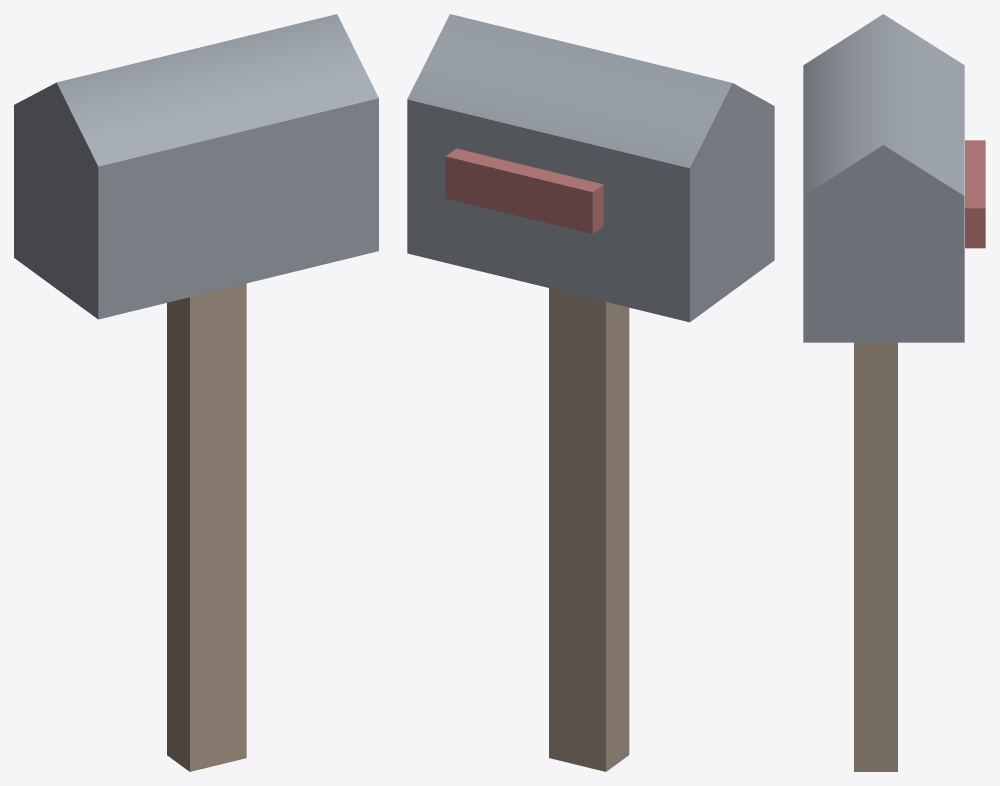
The model's file is mailBox_grey02.fbx.
3 renders of one model, left to right at view 1: azimuth 30°, elevation 25°; view 2: azimuth 150°, elevation 25°; view 3: azimuth 270°, elevation 25°, orthographic. The views are drawn at different scales.
Parts seen in each view (by area): view 1: mailBox, mailBox_stand; view 2: mailBox, mailBox_stand, mailBox_flag; view 3: mailBox, mailBox_stand, mailBox_flag.
Boxes of the visible parts, x1=… form: mailBox: x1=14, y1=14, x2=378, y2=319; mailBox_stand: x1=167, y1=283, x2=246, y2=771; mailBox: x1=407, y1=14, x2=774, y2=322; mailBox_stand: x1=549, y1=288, x2=629, y2=771; mailBox_flag: x1=445, y1=148, x2=603, y2=234; mailBox: x1=803, y1=14, x2=964, y2=342; mailBox_stand: x1=854, y1=342, x2=897, y2=771; mailBox_flag: x1=965, y1=140, x2=985, y2=248.
Size of the model in its own units: 0.3195 by 0.7695 by 0.1879.
